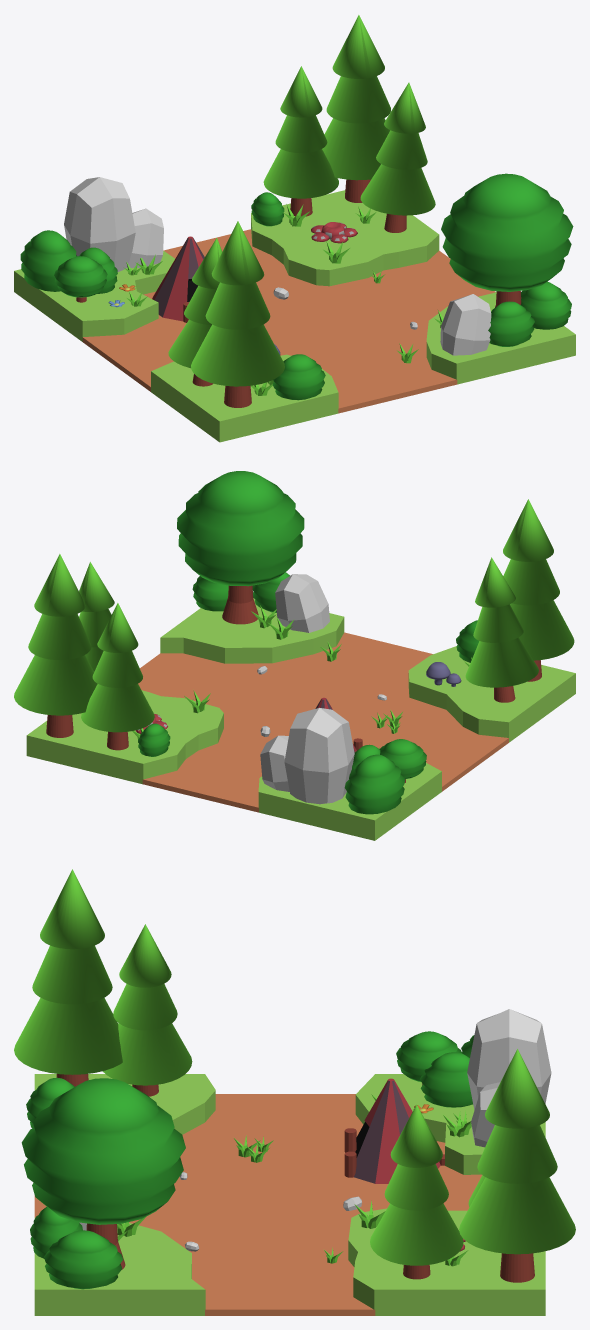
File: jungle level set - 4 Way.fbx
The picture shows the model from 3 angles, top to bottom: view 1: azimuth 30°, elevation 25°; view 2: azimuth 150°, elevation 25°; view 3: azimuth 270°, elevation 25°; orthographic projection. The views are drawn at different scales.
Visible parts, largest first — view 1: land_platform, tree_003, tree_006, tree_001, tree_002, tree, stone, tree_005, stone_004, camp, bush_003, bush_005 (+7 smaller); view 2: land_platform, tree_003, tree_001, tree_006, tree, tree_005, stone, bush_003, stone_004, tree_002, stone_001, tree_004 (+4 smaller); view 3: land_platform, tree_003, tree_001, tree_006, tree_002, tree_005, stone, camp, bush, bush_001, tree_004, bush_004 (+2 smaller).
Part boxes in pixels (x1,y1,x2,y2): land_platform: (14,190,575,442); tree_003: (441,173,573,307); tree_006: (191,221,284,407); tree_001: (322,15,390,202); tree_002: (360,82,435,232); tree: (263,66,338,216); stone: (64,177,135,271); tree_005: (168,238,222,386); stone_004: (440,294,491,355); camp: (152,236,204,322); bush_003: (20,230,76,291); bush_005: (273,354,325,400); land_platform: (26,598,575,840); tree_003: (177,471,304,624); tree_001: (14,554,97,737); tree_006: (503,499,574,681); tree: (81,603,154,750); tree_005: (465,557,538,702); stone: (284,707,354,804); bush_003: (344,754,405,814); stone_004: (275,574,329,632); tree_002: (79,562,114,671); stone_001: (260,735,289,791); tree_004: (379,739,426,782); land_platform: (34,1074,545,1315); tree_003: (21,1078,185,1269); tree_001: (459,1049,575,1282); tree_006: (14,869,122,1086); tree_002: (370,1104,463,1279); tree_005: (103,924,192,1096); stone: (467,1009,551,1109); camp: (344,1078,444,1183); bush: (44,1230,123,1289); bush_001: (420,1052,472,1107); tree_004: (396,1031,461,1085); bush_004: (30,1207,82,1258).
Bounding box in the file's own units: 16.26 × 8.53 × 16.7.
